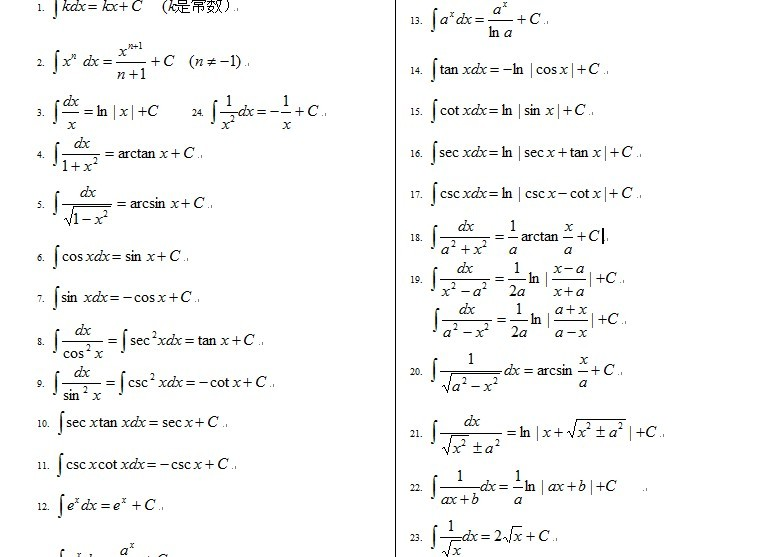division: (439, 429, 504, 441), (436, 275, 498, 286), (441, 366, 503, 376), (59, 198, 112, 208), (438, 233, 490, 243), (440, 482, 483, 493), (61, 379, 103, 389), (552, 317, 591, 326), (441, 319, 498, 325), (61, 336, 102, 344), (63, 151, 101, 158), (115, 58, 146, 65), (552, 277, 588, 283), (436, 535, 465, 542), (486, 17, 514, 24), (61, 108, 83, 116), (216, 109, 240, 116), (561, 235, 575, 242), (576, 367, 587, 374), (279, 109, 291, 115), (513, 485, 523, 489)
sqrt: (442, 371, 509, 397), (566, 414, 629, 440), (64, 201, 115, 227), (444, 432, 475, 455), (441, 536, 468, 557)
square: (479, 279, 489, 291), (78, 383, 88, 393), (227, 114, 237, 124), (452, 323, 463, 332), (480, 321, 491, 330), (147, 371, 156, 381), (494, 437, 503, 447), (480, 238, 487, 250), (149, 330, 158, 339), (84, 343, 93, 352), (449, 280, 456, 291), (461, 375, 468, 386), (492, 374, 499, 385), (460, 438, 468, 447), (617, 419, 625, 428), (585, 420, 591, 431), (451, 238, 456, 248), (102, 209, 108, 217)
